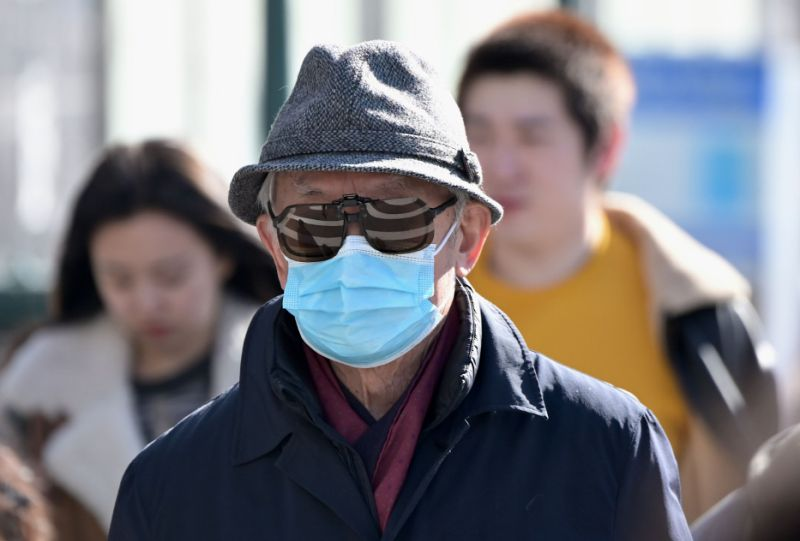surgical: (280, 237, 448, 368)
